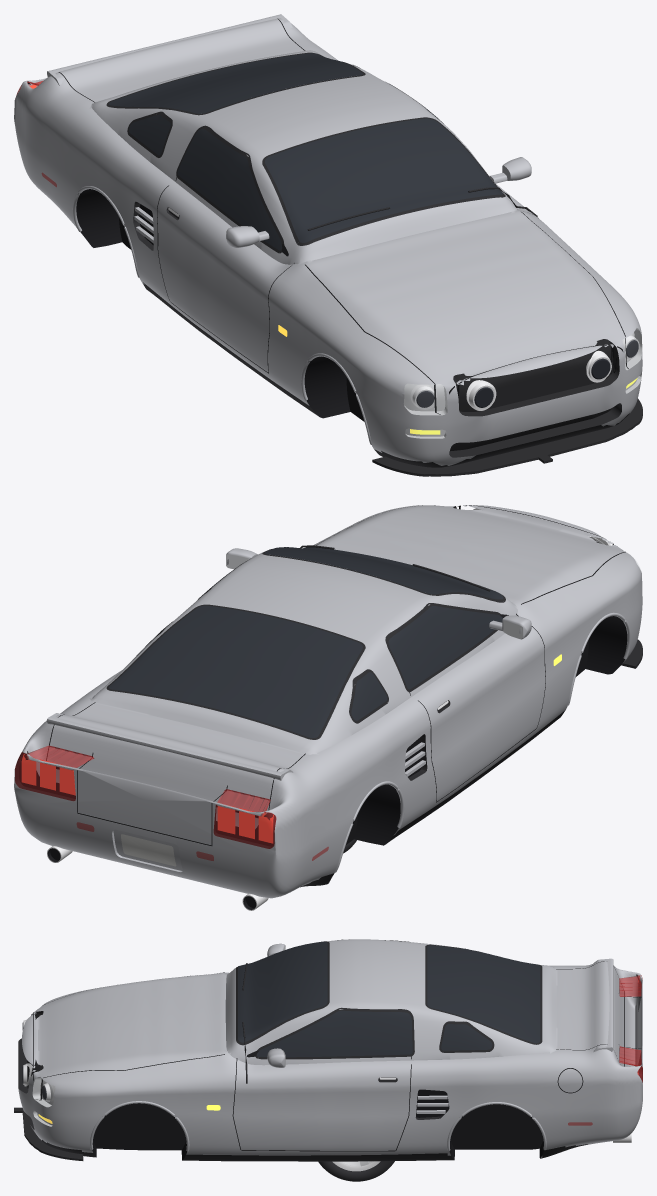
Rendered from stallion.glb.
3 views of the same model, one above another, from view 1: azimuth 30°, elevation 25°; view 2: azimuth 150°, elevation 25°; view 3: azimuth 270°, elevation 25° (orthographic). The views are drawn at different scales.
Visible parts, largest first — view 1: Body; view 2: Body; view 3: Body, WheelR.
Boxes of the visible parts, bbox=[...] form: Body: bbox=[14, 14, 642, 476]; Body: bbox=[14, 505, 642, 910]; Body: bbox=[14, 939, 642, 1161]; WheelR: bbox=[318, 1161, 394, 1181].
Bounding box in the file's own units: 2.06 × 1.75 × 4.79.
